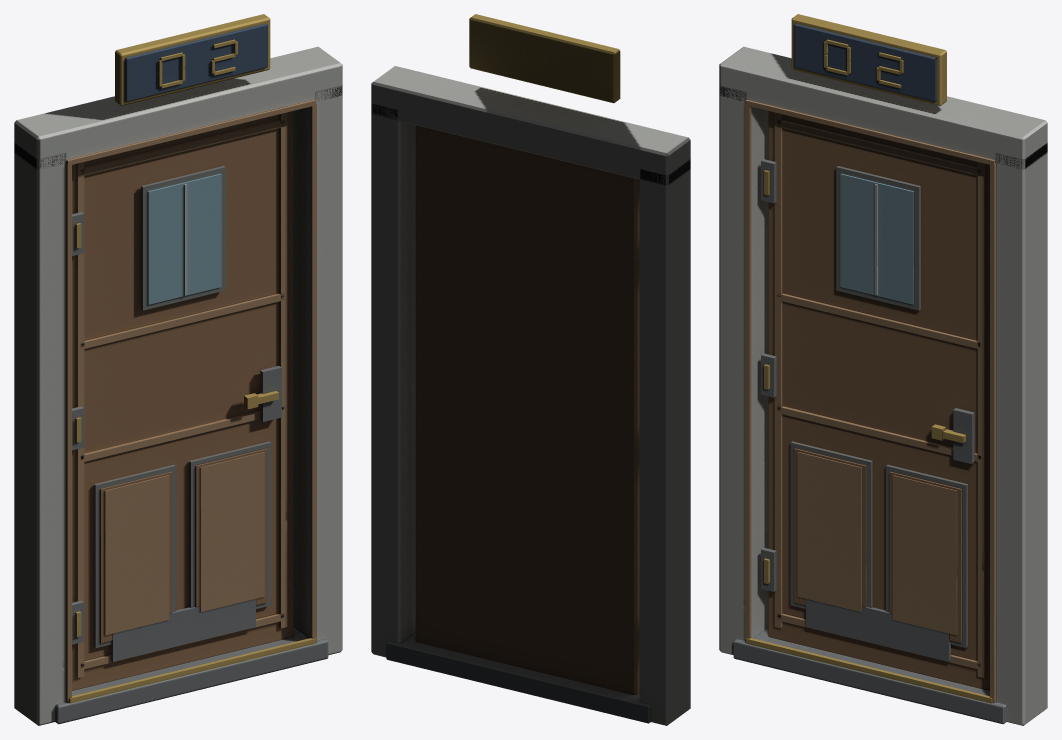
File: 0-20261016-1900-ev041-r07-floor4-previewroomdoor_baked.glb
3 renders of one model, left to right at view 1: azimuth 30°, elevation 25°; view 2: azimuth 150°, elevation 25°; view 3: azimuth 330°, elevation 25°, orthographic. The views are drawn at different scales.
Parts seen in each view (by area): view 1: SW_Leasing_PreviewRoomDoor; view 2: SW_Leasing_PreviewRoomDoor; view 3: SW_Leasing_PreviewRoomDoor.
Boxes of the visible parts, x1=… form: SW_Leasing_PreviewRoomDoor: x1=14, y1=14, x2=342, y2=725; SW_Leasing_PreviewRoomDoor: x1=371, y1=14, x2=690, y2=725; SW_Leasing_PreviewRoomDoor: x1=719, y1=14, x2=1047, y2=725.
Size of the model in its own units: 1.22 by 2.51 by 0.236.
Materials: 1 (1 with a texture image).
